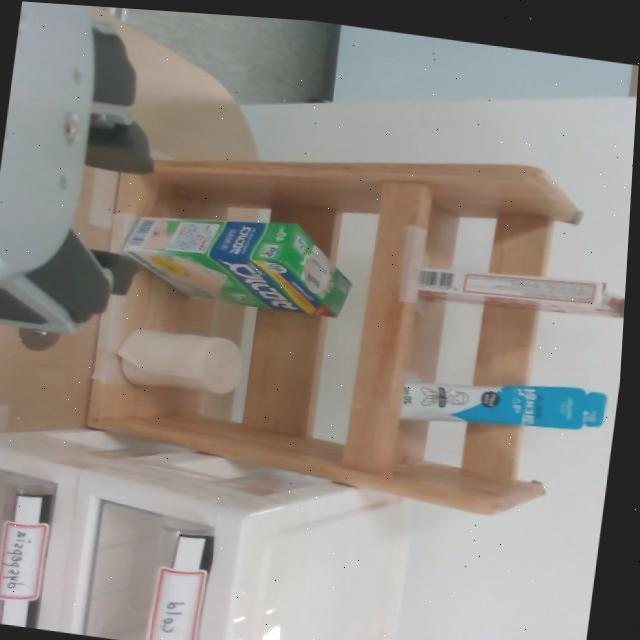bandage: (113, 322, 244, 394)
codaewon_syrup: (390, 360, 611, 440)
sore_patch: (117, 200, 366, 317)
tylenol: (406, 255, 627, 317)
